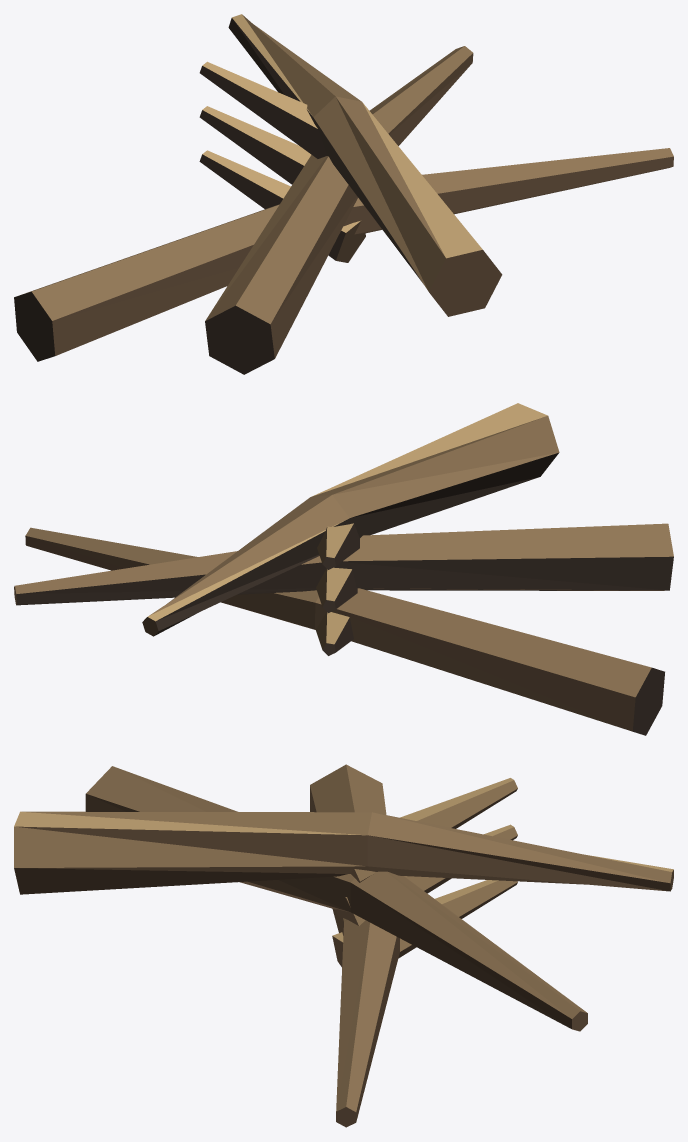
The model's file is TW_PROP_BRANCH_PILE_A_LOD0.glb.
The picture shows the model from 3 angles, top to bottom: view 1: azimuth 30°, elevation 25°; view 2: azimuth 150°, elevation 25°; view 3: azimuth 270°, elevation 25°; orthographic projection. The views are drawn at different scales.
Parts seen in each view (by area): view 1: TW_PROP_BRANCH_PILE_A_LOD0; view 2: TW_PROP_BRANCH_PILE_A_LOD0; view 3: TW_PROP_BRANCH_PILE_A_LOD0.
Part boxes in pixels (x1=…): TW_PROP_BRANCH_PILE_A_LOD0: x1=14, y1=14, x2=673, y2=374; TW_PROP_BRANCH_PILE_A_LOD0: x1=14, y1=403, x2=673, y2=735; TW_PROP_BRANCH_PILE_A_LOD0: x1=14, y1=764, x2=673, y2=1127.
Bounding box in the file's own units: 1.21 × 0.3275 × 1.02.
Materials: 1 (1 with a texture image).
